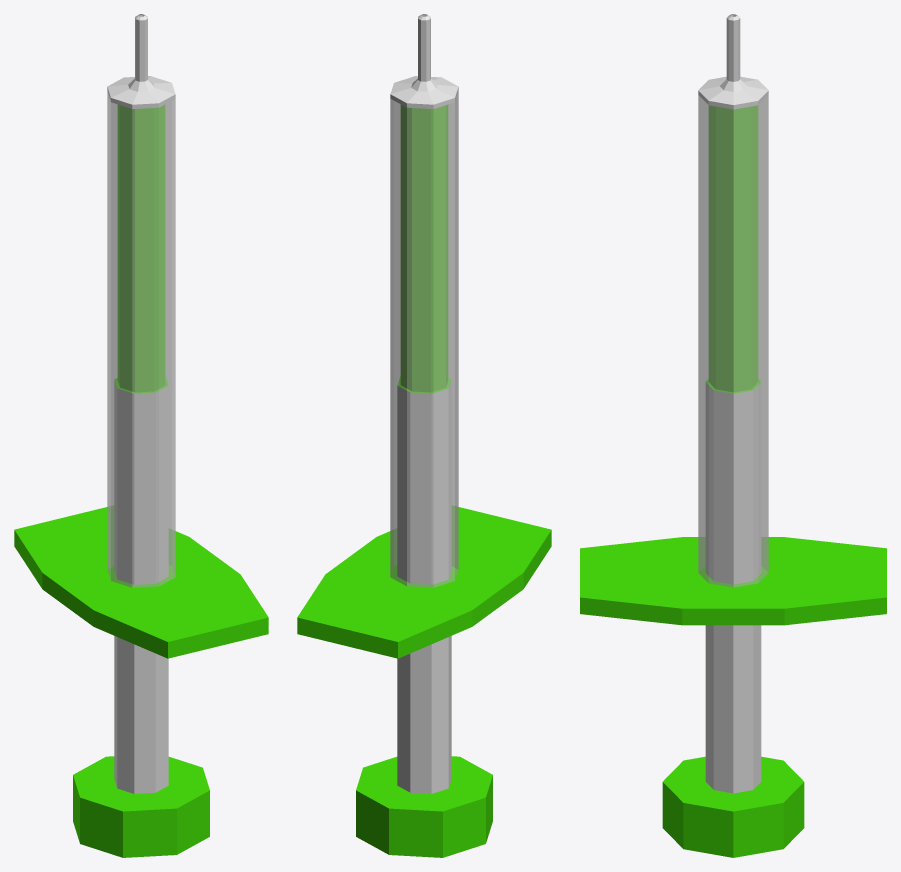
Rendered from seringue.fbx.
The picture shows the model from 3 angles, left to right: view 1: azimuth 30°, elevation 25°; view 2: azimuth 150°, elevation 25°; view 3: azimuth 270°, elevation 25°; orthographic projection.
Visible parts, largest first — view 1: Seringue; view 2: Seringue; view 3: Seringue.
Boxes of the visible parts, left/top/right/bottom form: Seringue: left=14, top=14, right=268, bottom=857; Seringue: left=297, top=14, right=551, bottom=857; Seringue: left=580, top=14, right=886, bottom=857.
Size of the model in its own units: 7.8 by 41.28 by 14.13.
